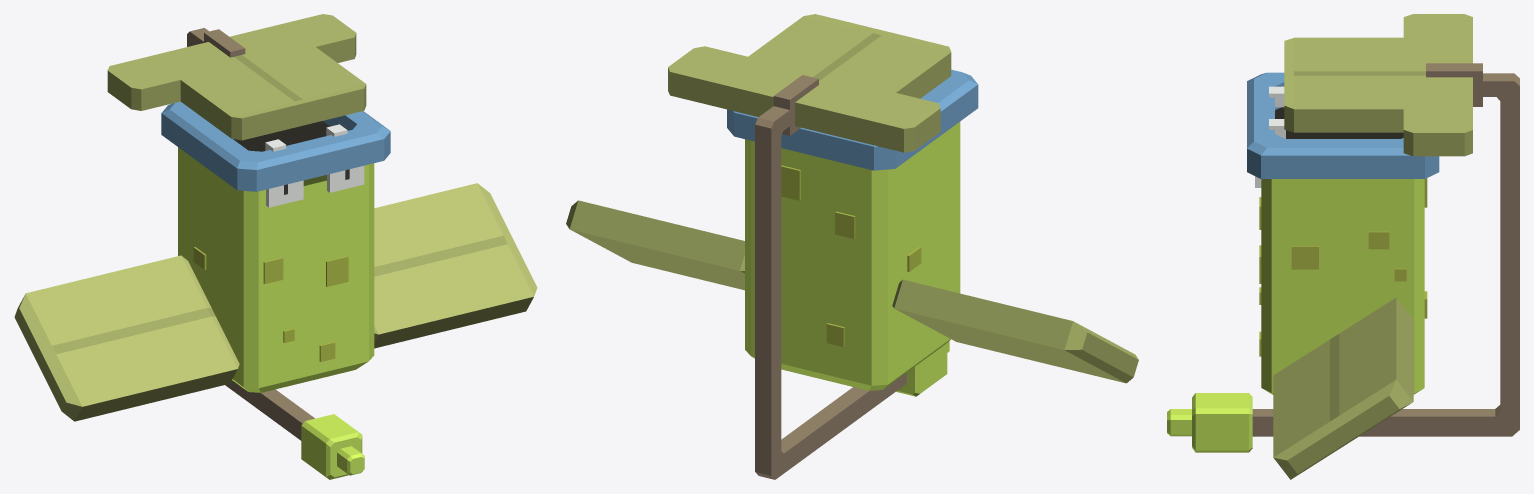
The model's file is model_shiny.obj.
3 renders of one model, left to right at view 1: azimuth 30°, elevation 25°; view 2: azimuth 150°, elevation 25°; view 3: azimuth 270°, elevation 25°, orthographic. The views are drawn at different scales.
Parts seen in each view (by area): view 1: 0071_victreebel_shiny; view 2: 0071_victreebel_shiny; view 3: 0071_victreebel_shiny.
Part boxes in pixels (x1,y1,x2,y2): 0071_victreebel_shiny: [14, 14, 537, 479]; 0071_victreebel_shiny: [566, 14, 1138, 479]; 0071_victreebel_shiny: [1167, 14, 1519, 479].
Size of the model in its own units: 3.77 by 2.67 by 2.26.
Materials: 1 (1 with a texture image).
